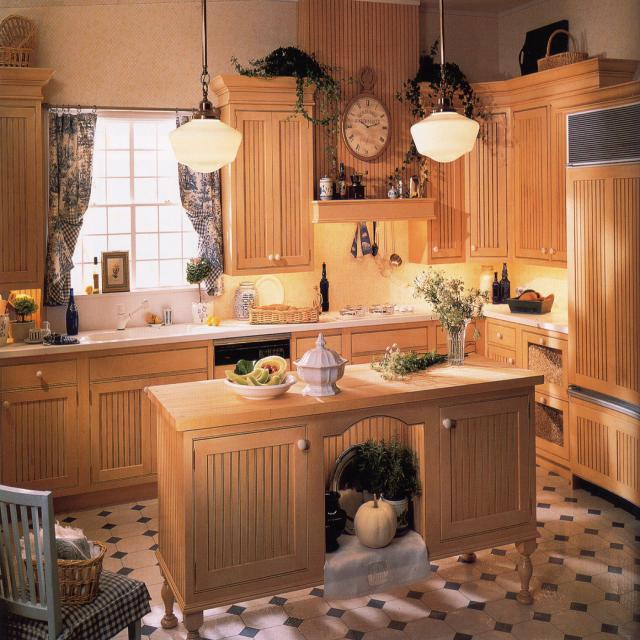2001: (45, 108, 214, 292)
basket crop: (26, 532, 104, 605), (539, 26, 588, 70)
basket of corn: (249, 306, 320, 321), (511, 290, 553, 314)
baskets: (1, 15, 36, 66)
bottle crop: (65, 288, 79, 333), (319, 260, 331, 307), (92, 258, 97, 293)
bottles occluded: (493, 260, 509, 305)
bowl of garlic: (224, 356, 293, 398)
cabinet door: (409, 60, 599, 268), (212, 82, 314, 268), (228, 99, 312, 272)
cabinets: (2, 343, 209, 524), (1, 69, 54, 290)
chair -occluded-: (1, 484, 142, 638)
clock crop: (343, 66, 392, 157)
cloth: (325, 530, 428, 599)
counter: (148, 349, 537, 422)
cup board: (23, 327, 47, 343)
curtain crop: (45, 110, 96, 304), (174, 109, 219, 285)
dishtowels: (349, 224, 369, 261)
dishwasher: (214, 335, 288, 366)
faucet handle: (116, 297, 149, 329)
flowers in pot: (367, 344, 441, 378)
freezer: (568, 391, 638, 503)
jar -X: (478, 265, 492, 287)
jar -_-: (313, 285, 323, 311)
jar of utensils: (320, 177, 334, 199)
kitchen sink: (156, 389, 537, 637)
kitchen worktop: (371, 221, 402, 277)
lemons: (208, 315, 220, 323)
light fixture: (168, 1, 240, 171), (409, 1, 481, 163)
metal teapot: (408, 173, 423, 197)
mill: (347, 168, 368, 199)
morar and pestle: (395, 178, 405, 197)
napkin ring: (45, 335, 76, 343)
picture crop: (101, 250, 129, 292)
plate food: (256, 276, 284, 303)
porcelin cookware: (295, 330, 347, 396)
porcelin jar: (234, 283, 258, 316)
potted plant: (234, 44, 320, 118), (404, 55, 481, 118), (363, 439, 417, 527), (185, 258, 213, 322), (11, 296, 36, 338)
pumpkin: (354, 499, 398, 546)
refrigerator: (565, 98, 638, 404)
sink basin: (86, 324, 202, 342)
soap dispenser: (148, 314, 164, 325)
stove top: (327, 300, 421, 317)
tray occluded: (331, 444, 378, 533), (518, 20, 568, 77)
vase -X: (325, 488, 347, 552)
vase with flowers: (413, 266, 489, 364)
